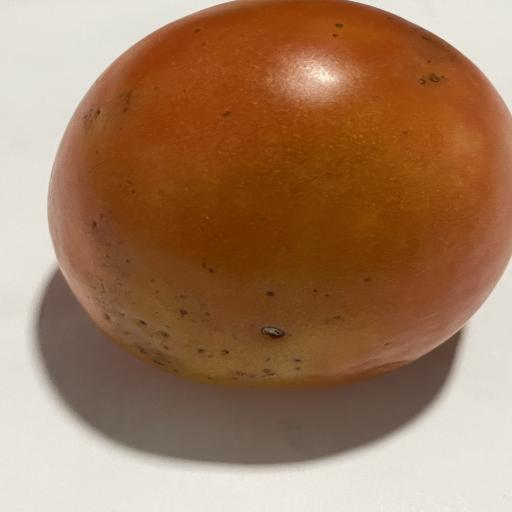ripe: (48, 0, 512, 388)
